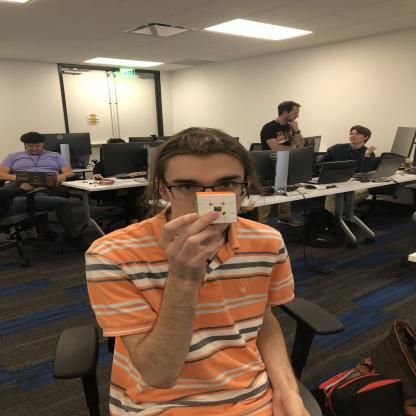SolvedCube: (196, 191, 237, 224)
